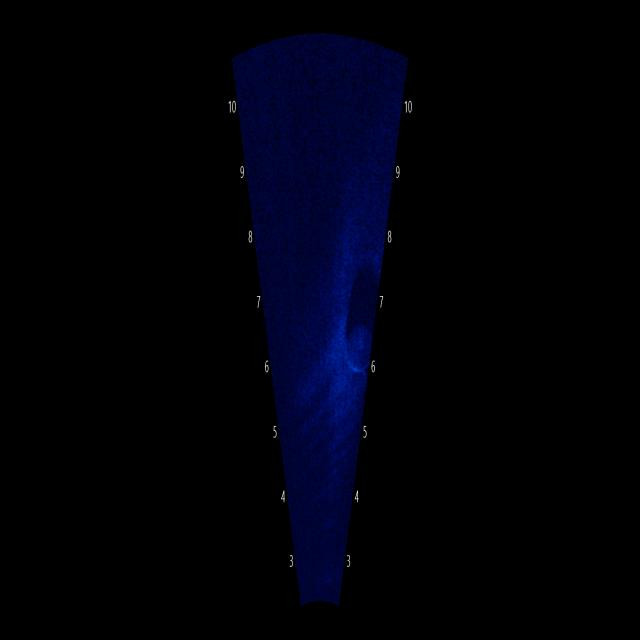circle: (339, 307, 379, 383)
